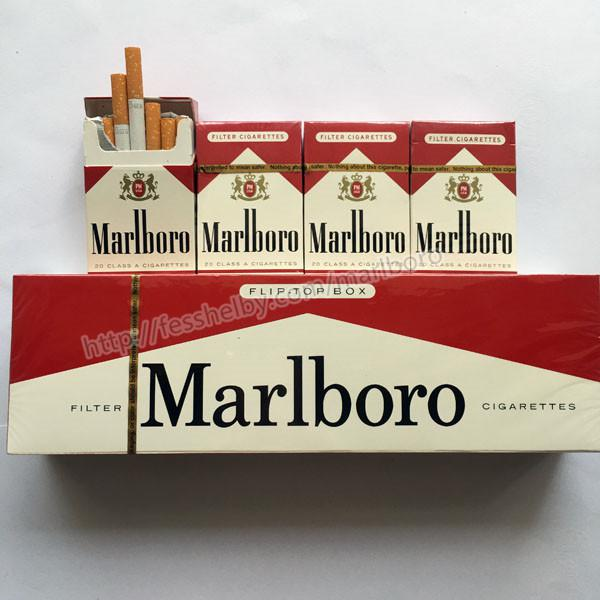marlboro_red: (411, 122, 516, 279), (197, 124, 301, 274), (305, 126, 408, 274), (87, 134, 194, 276)
